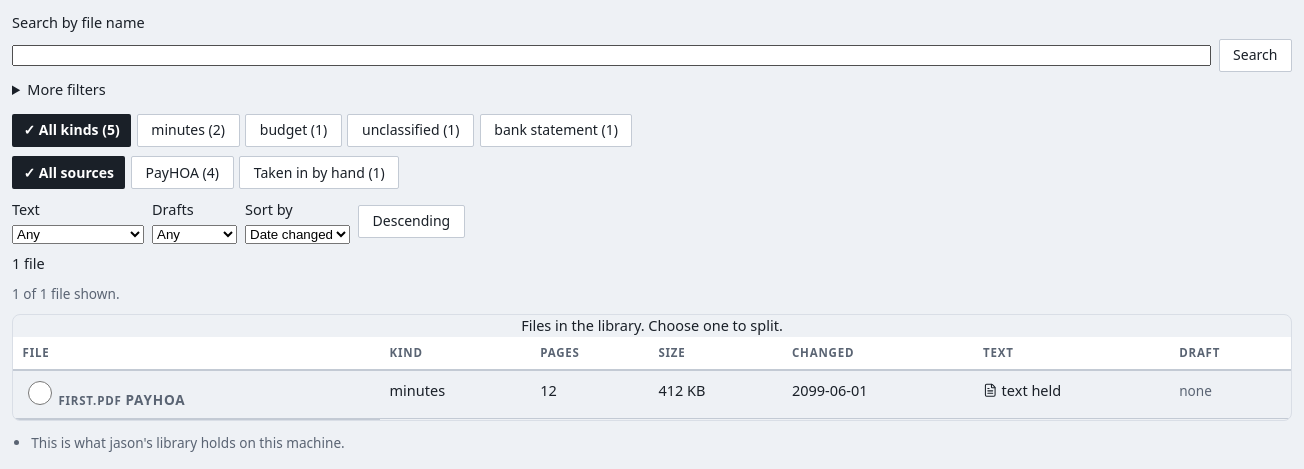
Test case: the library browser › drops a slow answer that arrives after a newer question
Check: the text "First.pdf" is shown, box [58,393,122,408]
Click the button "minutes (2)".
click(188, 130)  # box [137,114,240,147]
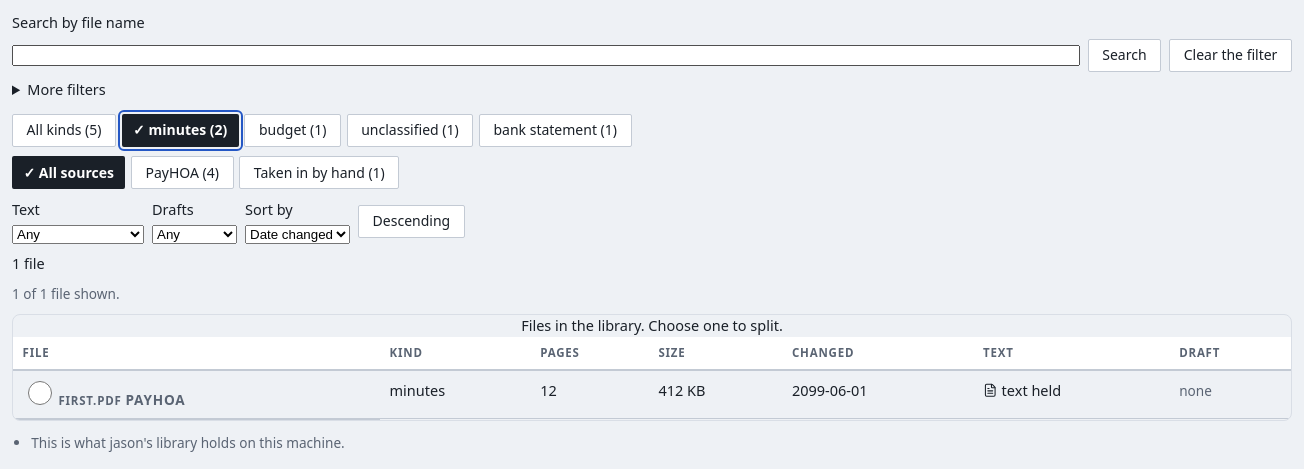
Click the button "PayHOA (4)".
click(182, 173)  # box [131,156,234,189]
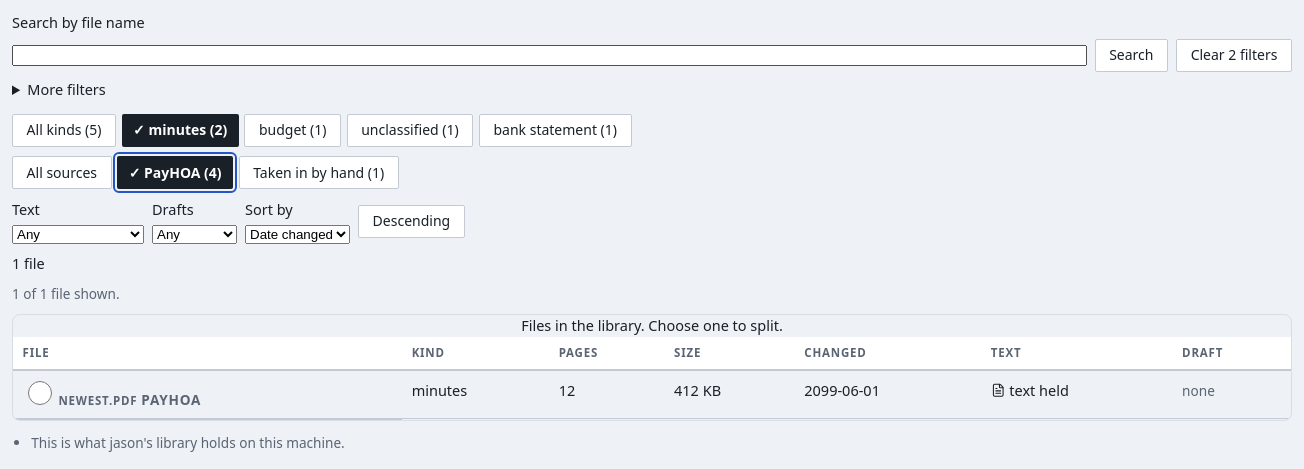
Check: the text "Newest.pdf" is shown, box [58,393,137,408]
